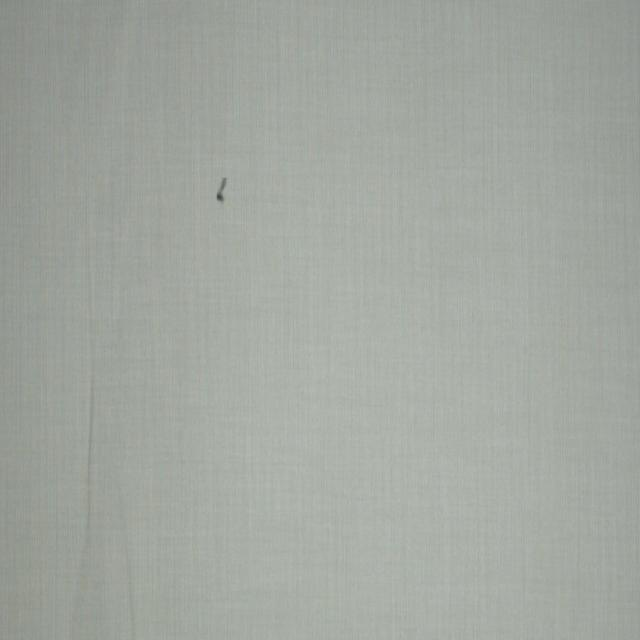dirty: (217, 177, 225, 202)
